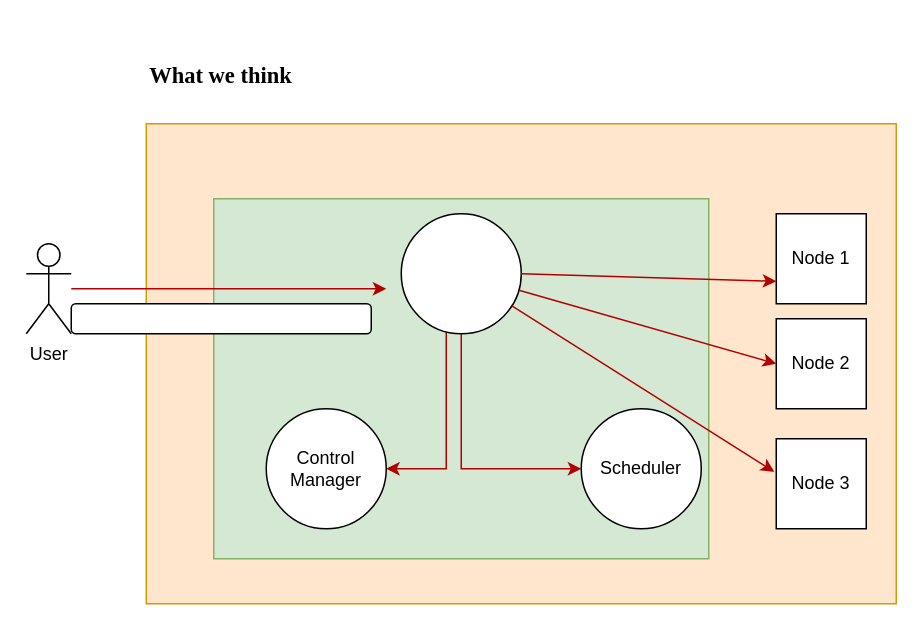
This 923x630 diagram has some shape labels left out. Here are the shapes that lost their labels. From the top down, the centre of each, then its label:
At [460,273]: "API Server".
At [220,318]: "kubectl -f create deployment.yml".
